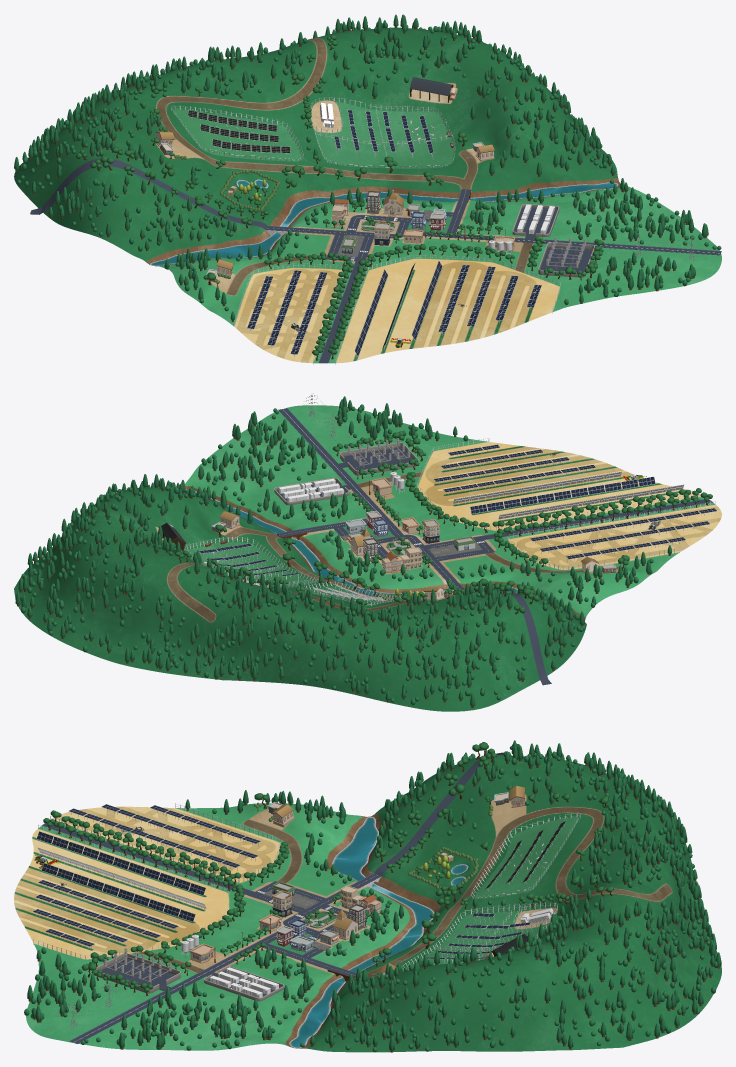
File: terrain_v19.glb
3 renders of one model, top to bottom at view 1: azimuth 30°, elevation 25°; view 2: azimuth 150°, elevation 25°; view 3: azimuth 270°, elevation 25°, orthographic. The views are drawn at different scales.
Visible parts, largest first — view 1: Ground, Ground.002, Road-03 (T-Junction).003, Water, Tree-02.011, Road-01 (Straight).001, Floor-03.002, Tree-02.016, Fences.009, Tree-02.009, Tree-02.010, Floor-03.001 (+3 smaller); view 2: Ground, Ground.002, Road-03 (T-Junction).003, Tree-02.011, PV_Tracker_Cath.001, Floor-03.002, Water, Tree-02.010, PV_Tracker_Cath, PV_Tracker_Cath.002, Road-01 (Straight).001, Tree-02.016 (+5 smaller); view 3: Ground, Ground.002, Road-03 (T-Junction).003, Water, Tree-02.011, PV_Tracker_Cath, Floor-03.002, PV_Tracker_Cath.002, Tree-02.010, Road-01 (Straight).001, Tree-02.016, Tree-02.009 (+8 smaller).
Boxes of the visible parts, x1,y1,x2,y2 form: Ground: [14, 27, 721, 363]; Ground.002: [14, 14, 721, 321]; Road-03 (T-Junction).003: [266, 189, 721, 363]; Water: [150, 179, 618, 265]; Tree-02.011: [312, 259, 369, 360]; Road-01 (Straight).001: [30, 158, 267, 229]; Floor-03.002: [538, 242, 594, 277]; Tree-02.016: [150, 35, 443, 185]; Fences.009: [311, 97, 455, 168]; Tree-02.009: [367, 243, 514, 266]; Tree-02.010: [527, 236, 603, 280]; Floor-03.001: [512, 204, 559, 238]; Ground: [14, 405, 721, 711]; Ground.002: [15, 396, 671, 707]; Road-03 (T-Junction).003: [277, 408, 712, 588]; Tree-02.011: [492, 488, 712, 537]; PV_Tracker_Cath.001: [470, 476, 655, 514]; Floor-03.002: [339, 442, 418, 475]; Water: [184, 489, 579, 620]; Tree-02.010: [332, 431, 426, 478]; PV_Tracker_Cath: [498, 484, 683, 519]; PV_Tracker_Cath.002: [453, 471, 621, 503]; Road-01 (Straight).001: [457, 588, 551, 685]; Tree-02.016: [175, 538, 412, 606]; Ground: [14, 754, 721, 1052]; Ground.002: [24, 740, 721, 1052]; Road-03 (T-Junction).003: [42, 823, 381, 1043]; Water: [289, 817, 468, 1048]; Tree-02.011: [43, 810, 241, 891]; PV_Tracker_Cath: [36, 831, 205, 895]; Floor-03.002: [94, 953, 180, 993]; PV_Tracker_Cath.002: [41, 863, 195, 921]; Tree-02.010: [81, 945, 191, 995]; Road-01 (Straight).001: [374, 752, 503, 875]; Tree-02.016: [372, 792, 613, 966]; Tree-02.009: [161, 884, 246, 953].
Bounding box in the file's own units: 48.86 × 8.82 × 54.42.
Materials: 17 (11 with a texture image).
